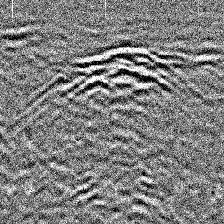cavities: (23, 35, 195, 115)
